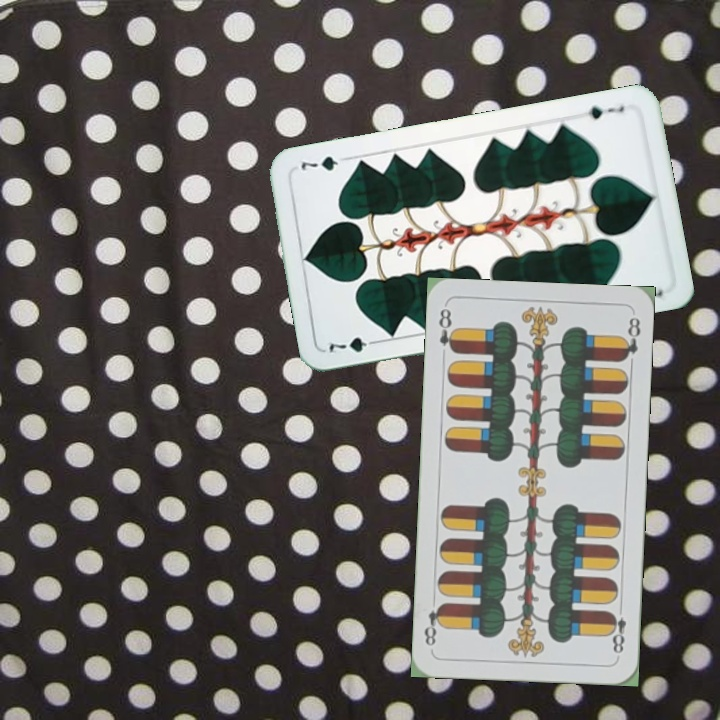E8: (605, 600, 629, 656), (434, 304, 459, 356)
G7: (324, 333, 382, 355), (575, 101, 627, 122)
